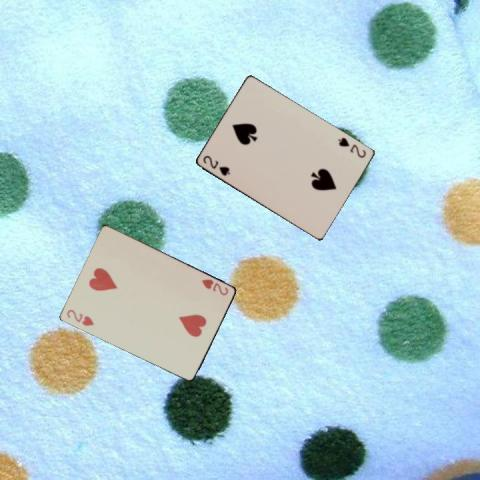2h: (64, 306, 96, 327), (199, 276, 230, 297)
2s: (200, 153, 232, 177), (336, 135, 368, 159)
